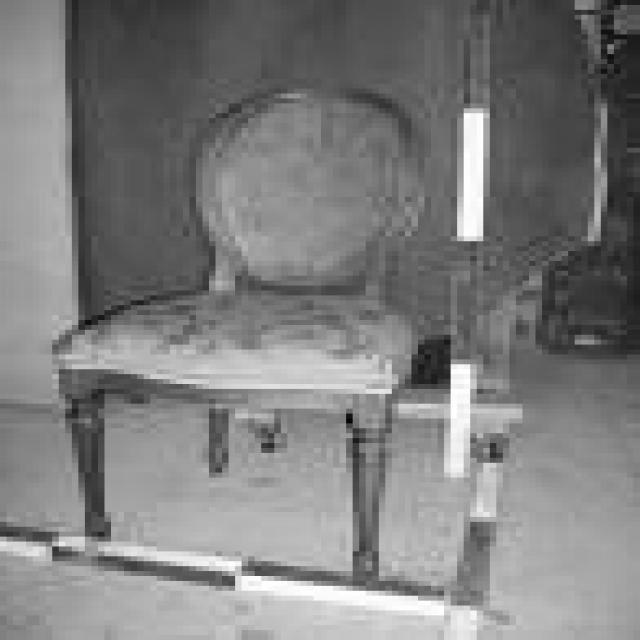chair: (49, 80, 438, 576)
